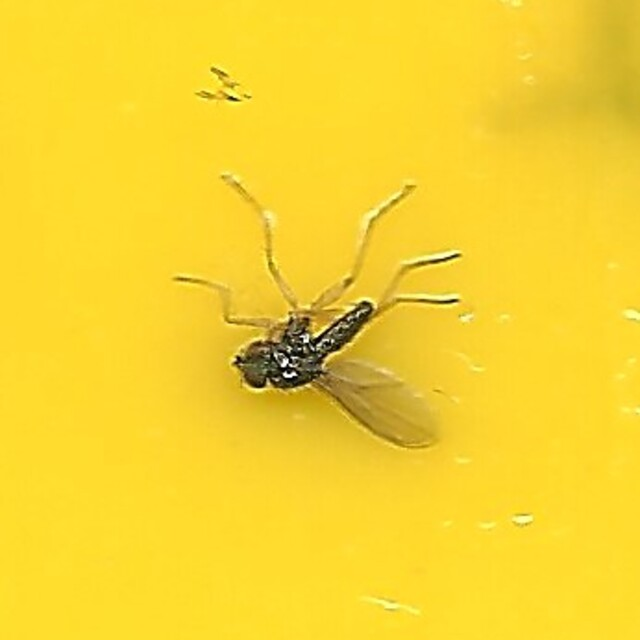Brachycera: (185, 175, 455, 465)
